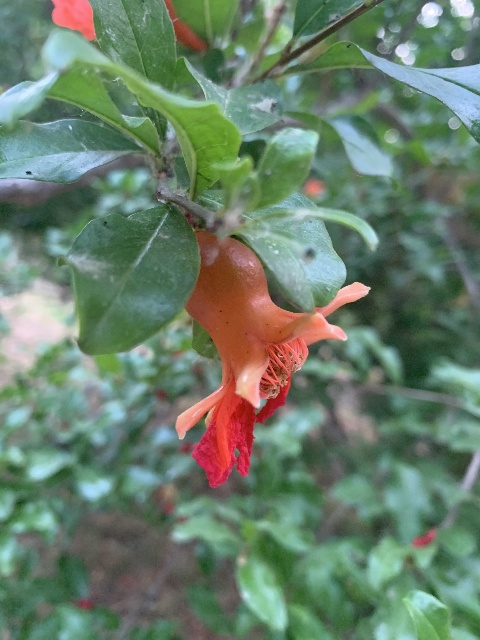flower: (174, 232, 372, 488)
